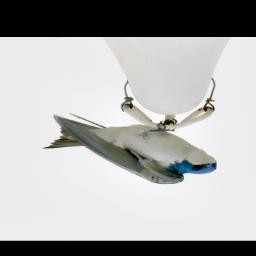Swallow: (40, 110, 218, 185)
